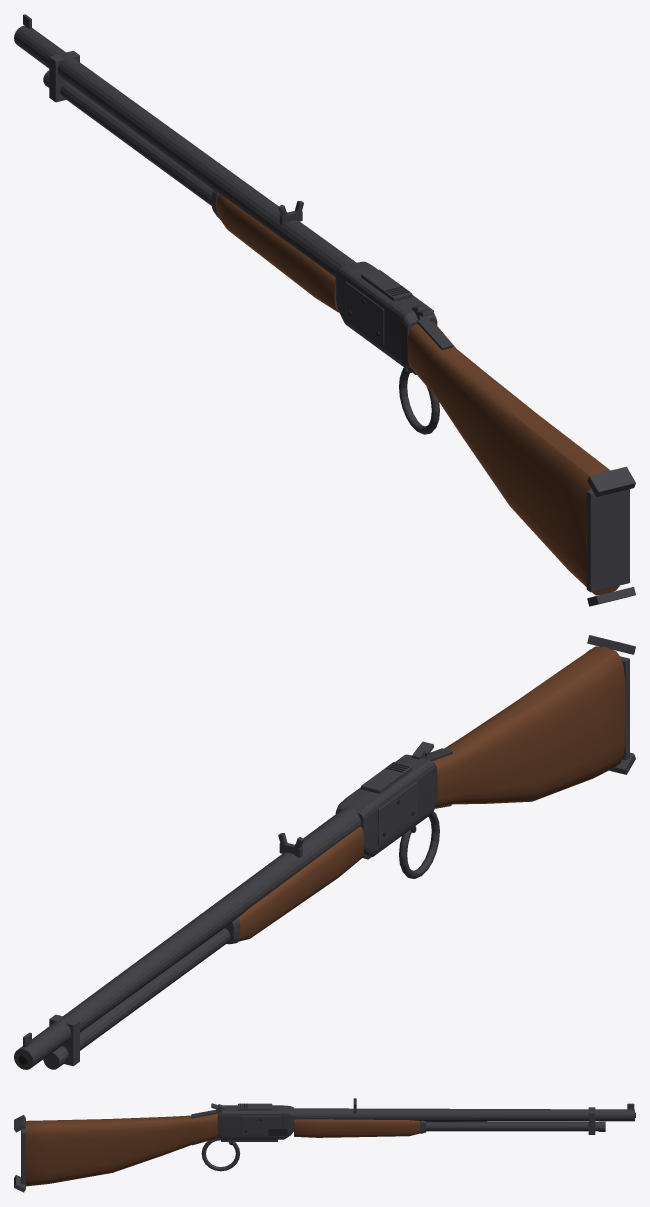
The model's file is rifle.glb.
The picture shows the model from 3 angles, top to bottom: view 1: azimuth 30°, elevation 25°; view 2: azimuth 150°, elevation 25°; view 3: azimuth 270°, elevation 25°; orthographic projection. The views are drawn at different scales.
Visible parts, largest first — view 1: Rifle, RifleLever; view 2: Rifle, RifleLever; view 3: Rifle, RifleLever.
Part boxes in pixels (x1,y1,x2,y2): Rifle: (14, 14, 635, 606); RifleLever: (399, 367, 439, 434); Rifle: (14, 635, 635, 1069); RifleLever: (362, 811, 439, 878); Rifle: (14, 1098, 635, 1192); RifleLever: (201, 1137, 277, 1171).
Size of the model in its own units: 0.042 by 0.1684 by 1.09.
